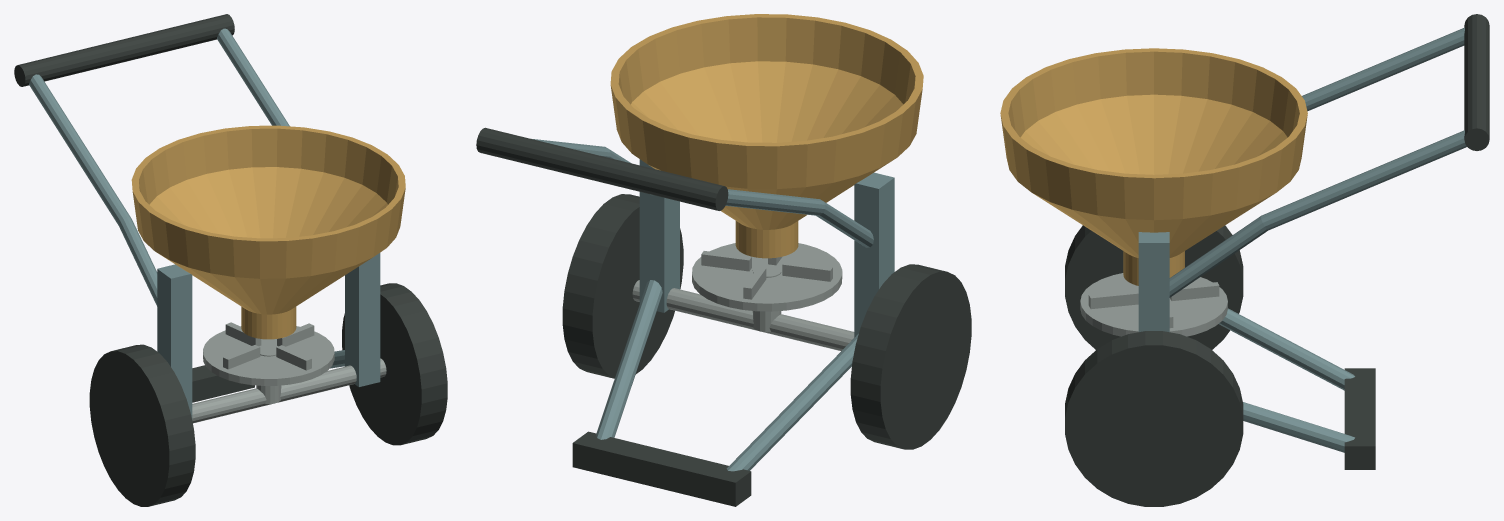
The picture shows the model from 3 angles, left to right: view 1: azimuth 30°, elevation 25°; view 2: azimuth 150°, elevation 25°; view 3: azimuth 270°, elevation 25°; orthographic projection. The views are drawn at different scales.
Visible parts, largest first — view 1: WholeRoundThroughHopperAndLowerThroat, WholeLargeSideWheel0, WholeLargeSideWheel1, WholeDarkTransversePushGrip, WholeShallowHorizontalSpinnerDisc, WholeUprightHopperSupport1, WholeUprightHopperSupport0, WholeBentRearwardPushArm0, WholeTransverseSideWheelAxle, WholeBentRearwardPushArm1, WholeRearParkingGroundBar, WholeBluntRadialSpinnerVane2 (+2 smaller); view 2: WholeRoundThroughHopperAndLowerThroat, WholeLargeSideWheel0, WholeLargeSideWheel1, WholeRearParkingGroundBar, WholeDarkTransversePushGrip, WholeShallowHorizontalSpinnerDisc, WholeUprightHopperSupport0, WholeUprightHopperSupport1, WholeTransverseSideWheelAxle, WholeRearParkingStrut0, WholeRearParkingStrut1, WholeBentRearwardPushArm0 (+4 smaller); view 3: WholeRoundThroughHopperAndLowerThroat, WholeLargeSideWheel1, WholeLargeSideWheel0, WholeBentRearwardPushArm1, WholeShallowHorizontalSpinnerDisc, WholeDarkTransversePushGrip, WholeUprightHopperSupport1, WholeRearParkingGroundBar, WholeBentRearwardPushArm0, WholeRearParkingStrut0, WholeRearParkingStrut1, WholeBluntRadialSpinnerVane3 (+1 smaller).
Part boxes in pixels (x1=…): WholeRoundThroughHopperAndLowerThroat: x1=131, y1=125, x2=405, y2=339; WholeLargeSideWheel0: x1=89, y1=344, x2=195, y2=506; WholeLargeSideWheel1: x1=342, y1=283, x2=447, y2=445; WholeDarkTransversePushGrip: x1=14, y1=14, x2=234, y2=86; WholeShallowHorizontalSpinnerDisc: x1=203, y1=326, x2=334, y2=385; WholeUprightHopperSupport1: x1=345, y1=253, x2=380, y2=386; WholeUprightHopperSupport0: x1=157, y1=264, x2=192, y2=419; WholeBentRearwardPushArm0: x1=29, y1=74, x2=157, y2=306; WholeTransverseSideWheelAxle: x1=192, y1=358, x2=386, y2=423; WholeBentRearwardPushArm1: x1=217, y1=28, x2=289, y2=126; WholeRearParkingGroundBar: x1=192, y1=365, x2=254, y2=402; WholeBluntRadialSpinnerVane2: x1=223, y1=345, x2=260, y2=369; WholeRoundThroughHopperAndLowerThroat: x1=610, y1=14, x2=923, y2=258; WholeLargeSideWheel0: x1=850, y1=264, x2=971, y2=449; WholeLargeSideWheel1: x1=562, y1=194, x2=683, y2=378; WholeRearParkingGroundBar: x1=572, y1=431, x2=751, y2=506; WholeDarkTransversePushGrip: x1=476, y1=127, x2=728, y2=210; WholeShallowHorizontalSpinnerDisc: x1=692, y1=243, x2=842, y2=311; WholeUprightHopperSupport0: x1=854, y1=172, x2=894, y2=337; WholeUprightHopperSupport1: x1=639, y1=159, x2=679, y2=312; WholeTransverseSideWheelAxle: x1=632, y1=280, x2=854, y2=350; WholeRearParkingStrut0: x1=726, y1=333, x2=858, y2=471; WholeRearParkingStrut1: x1=596, y1=280, x2=662, y2=439; WholeBentRearwardPushArm0: x1=725, y1=189, x2=873, y2=247; WholeRoundThroughHopperAndLowerThroat: x1=1000, y1=48, x2=1307, y2=285; WholeLargeSideWheel1: x1=1065, y1=331, x2=1243, y2=506; WholeLargeSideWheel0: x1=1065, y1=225, x2=1243, y2=349; WholeBentRearwardPushArm1: x1=1169, y1=130, x2=1466, y2=297; WholeShallowHorizontalSpinnerDisc: x1=1080, y1=273, x2=1227, y2=336; WholeDarkTransversePushGrip: x1=1464, y1=14, x2=1489, y2=150; WholeUprightHopperSupport1: x1=1138, y1=232, x2=1169, y2=332; WholeRearParkingGroundBar: x1=1344, y1=368, x2=1375, y2=469; WholeBentRearwardPushArm0: x1=1302, y1=27, x2=1464, y2=111; WholeRearParkingStrut0: x1=1219, y1=308, x2=1354, y2=390; WholeRearParkingStrut1: x1=1243, y1=402, x2=1354, y2=452; WholeBluntRadialSpinnerVane3: x1=1088, y1=290, x2=1138, y2=309.
Bounding box in the file's own units: 1.17 × 1.29 × 1.59.
